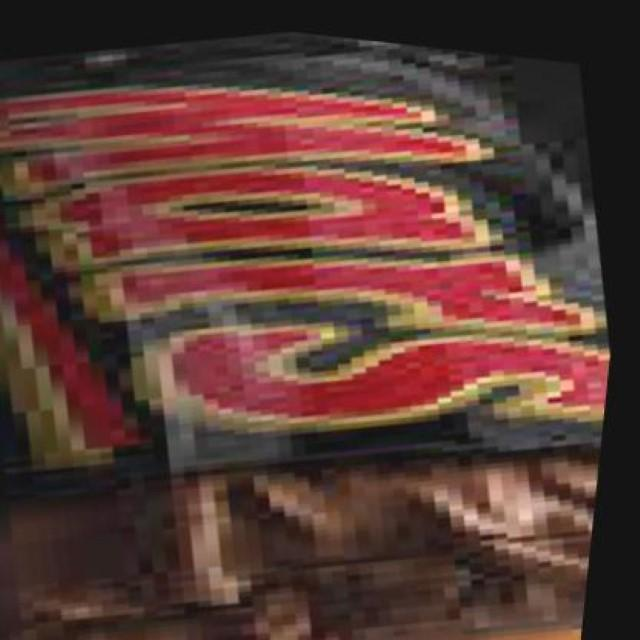mars_chocolate: (26, 60, 616, 457)
